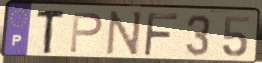3: (185, 13, 214, 59)
5: (221, 15, 251, 59)
F: (141, 11, 180, 58)
N: (104, 10, 144, 59)
P: (68, 11, 105, 55)
T: (35, 9, 67, 56)
